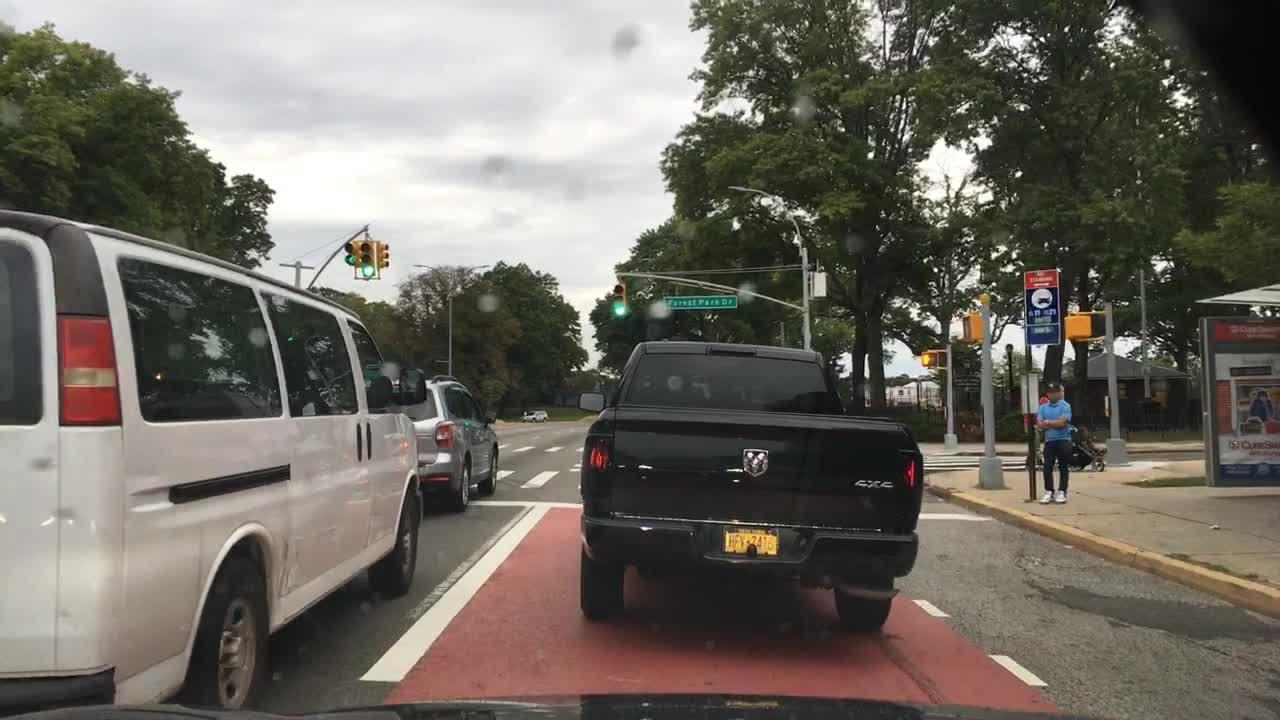ram: (737, 443, 776, 484)
